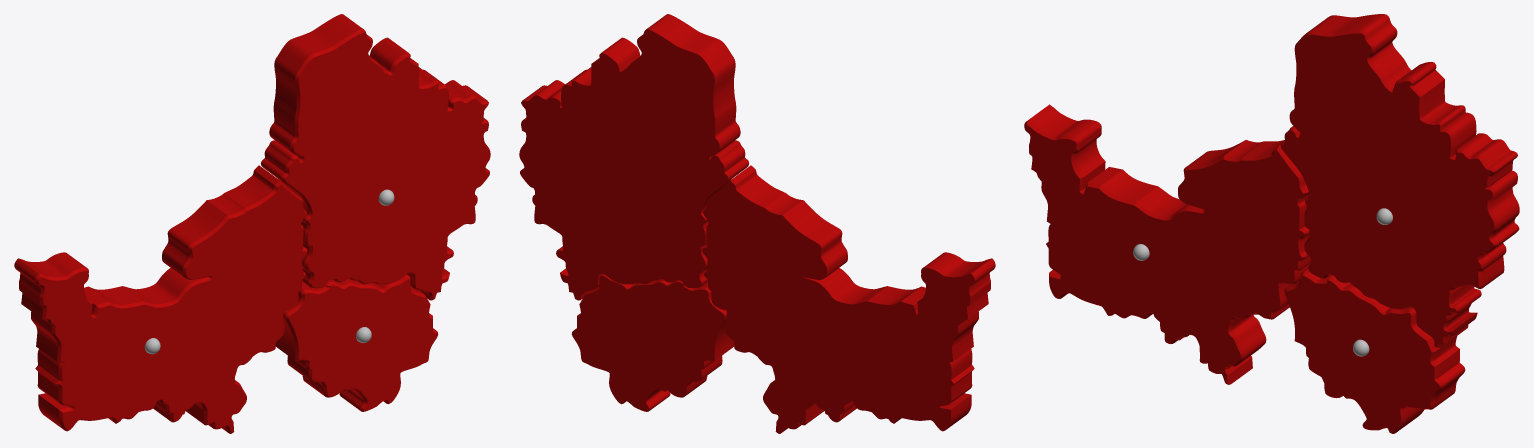
File: France.glb
3 views of the same model, side by side, from view 1: azimuth 30°, elevation 25°; view 2: azimuth 150°, elevation 25°; view 3: azimuth 330°, elevation 25° (orthographic). The views are drawn at different scales.
Parts seen in each view (by area): view 1: FRANCE_MODEL; view 2: FRANCE_MODEL; view 3: FRANCE_MODEL.
Part boxes in pixels (box(x1,y1,x2,y2)): FRANCE_MODEL: box(14, 14, 490, 433); FRANCE_MODEL: box(519, 14, 995, 433); FRANCE_MODEL: box(1024, 14, 1519, 433).
Size of the model in its own units: 0.7794 by 0.6263 by 0.0801.
